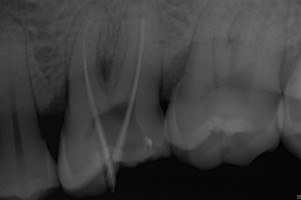Endo-Periodontal Lesion: (98, 58, 112, 80)
